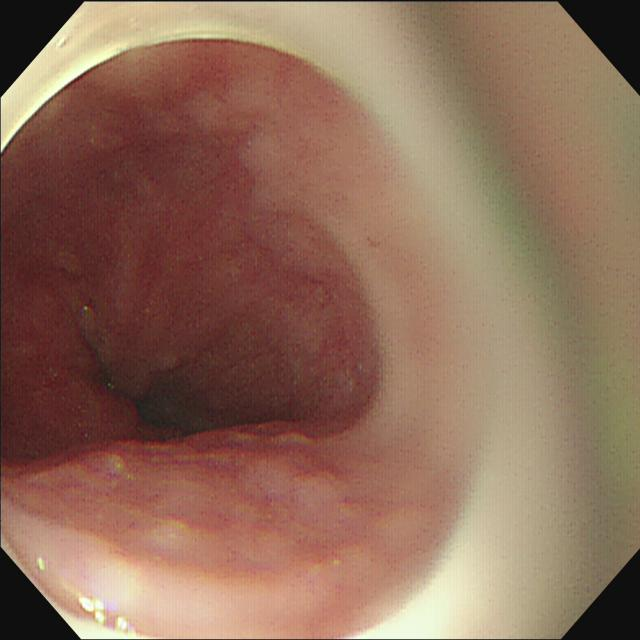E: (112, 354, 216, 452)
U: (66, 585, 144, 640)
